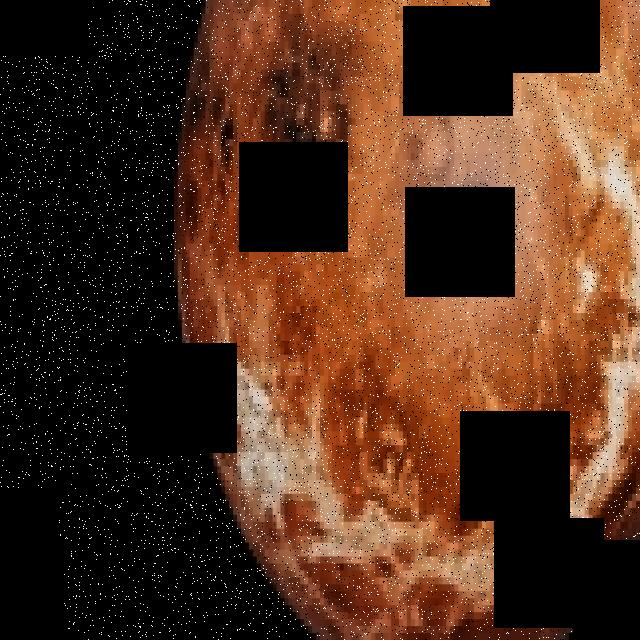Venus: (166, 0, 640, 640)
